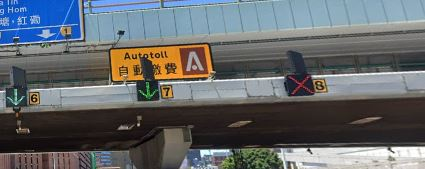Autotoll: (108, 45, 214, 79)
